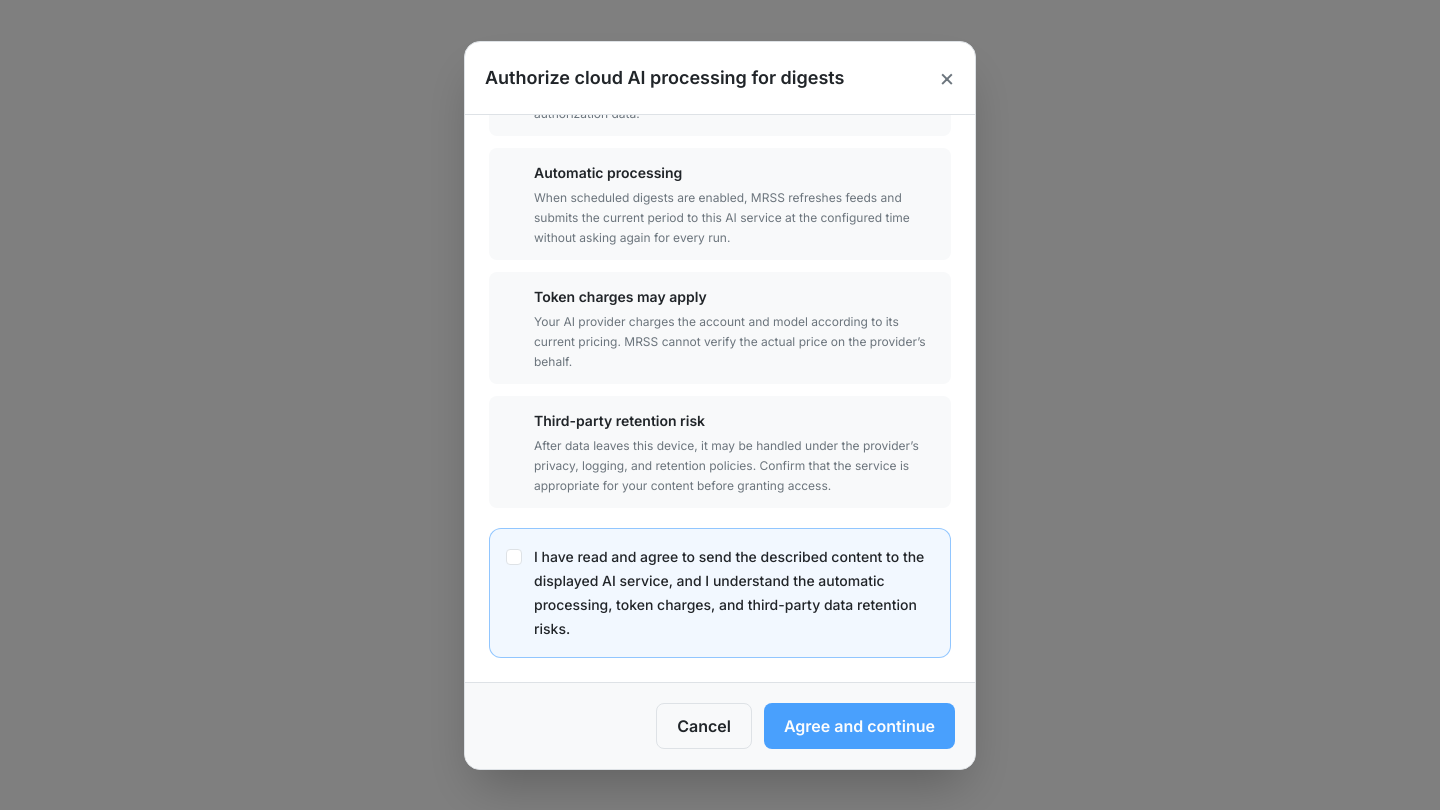
Test case: App › requires an explicit checkbox before cloud processing consent can be granted
The image size is (1440, 810).
(page scrolled)
Expected: the button "Agree and continue" is disabled, left=764, top=702, right=955, bottom=748
Step 1. Click the checkbox with test id "daily-report-consent-checkbox" → (514, 556), box left=506, top=548, right=522, bottom=564
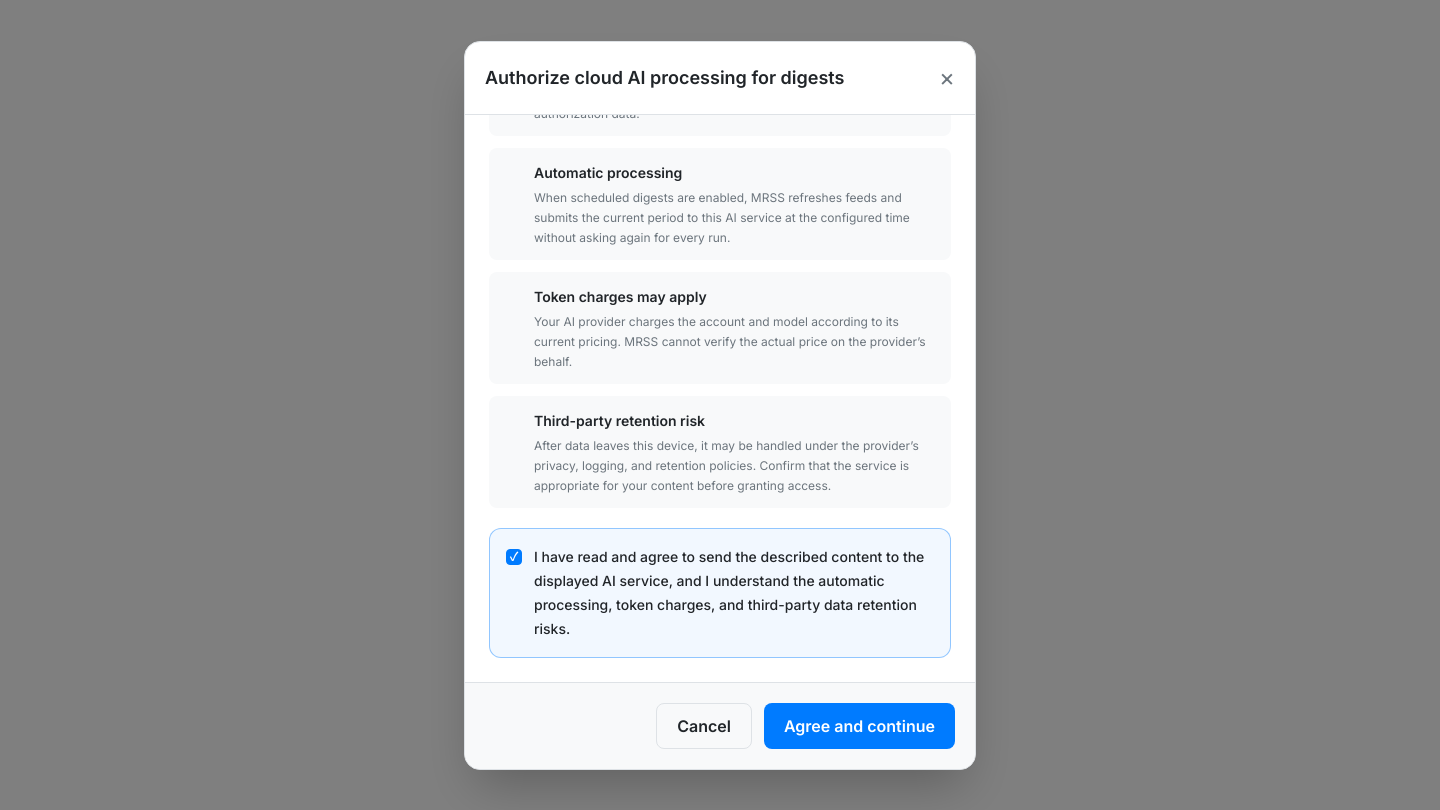
Now the button "Agree and continue" is enabled, box left=764, top=702, right=955, bottom=748
